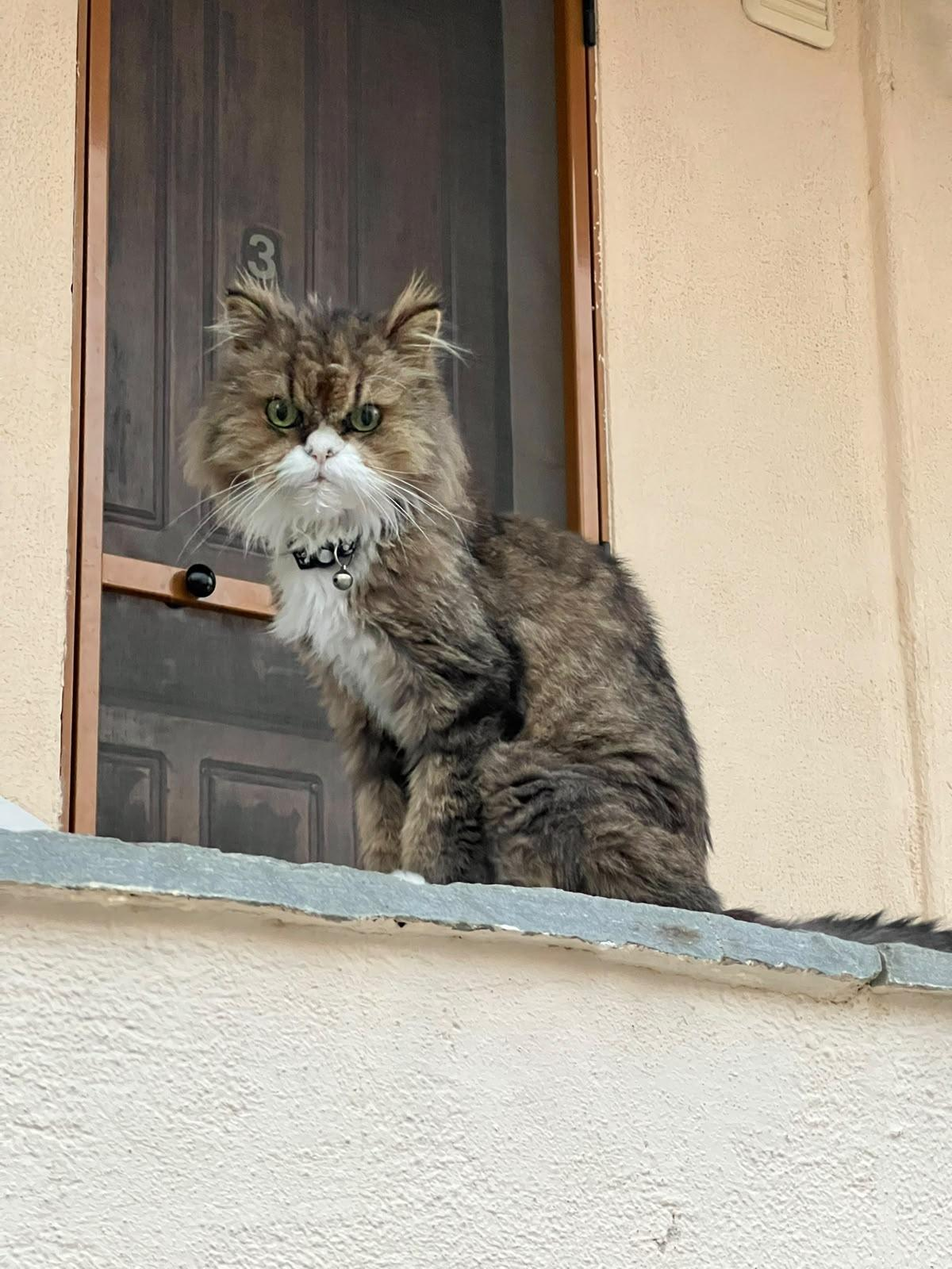macka: (180, 269, 951, 963)
